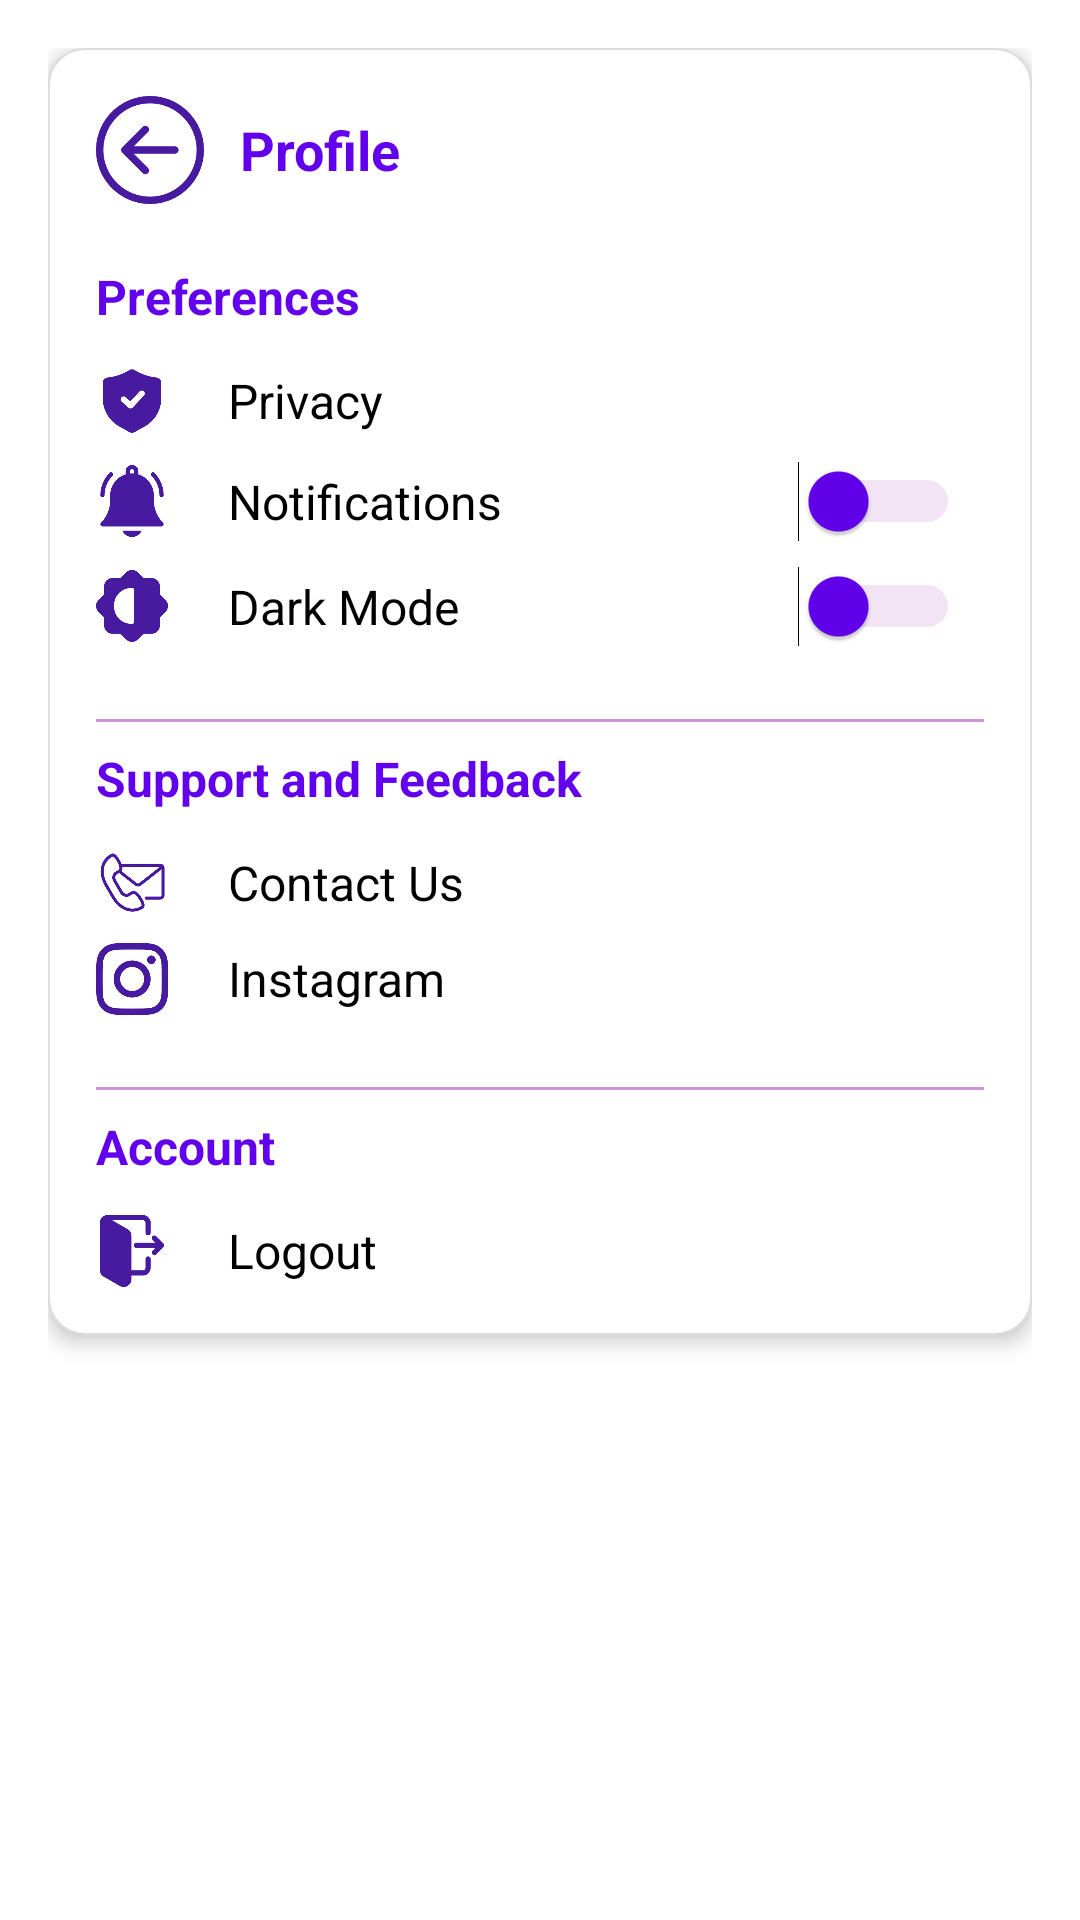

Screen size 1080 x 1920. Icon name, then its box in pixels as (x1, y1, x2, y2):
back: (96, 96, 204, 204)
bell: (100, 465, 164, 537)
phone: (100, 853, 165, 912)
shield: (103, 369, 161, 433)
